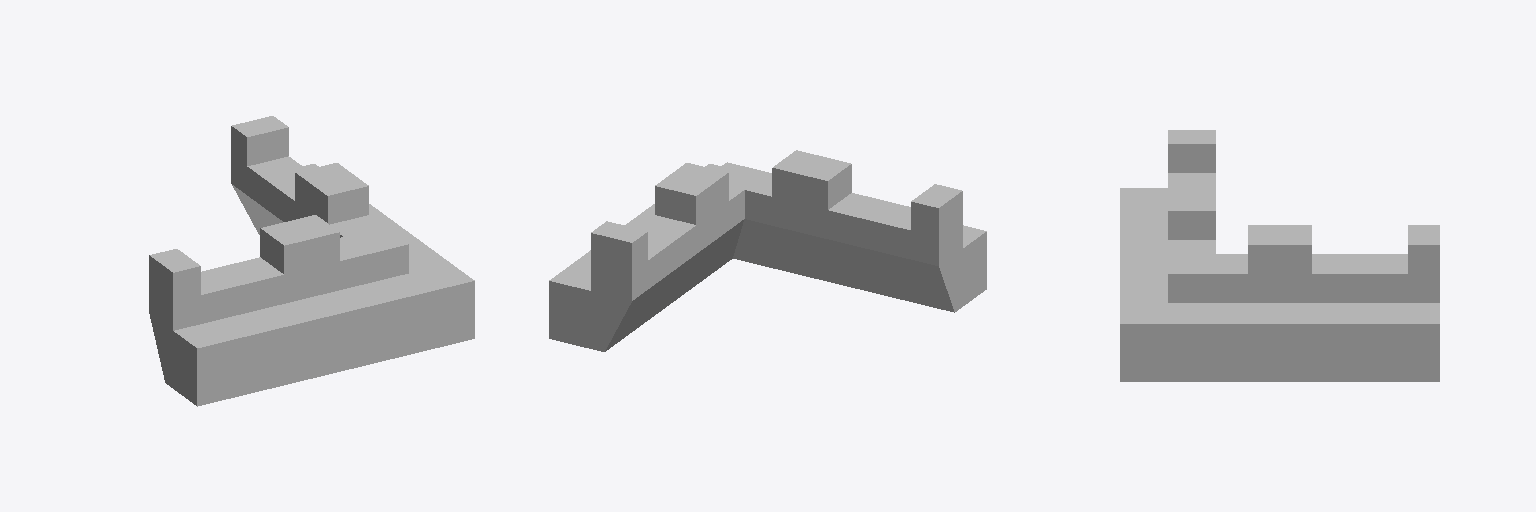
Rendered from battlement-corner-inner.obj.
3 renders of one model, left to right at view 1: azimuth 30°, elevation 25°; view 2: azimuth 150°, elevation 25°; view 3: azimuth 270°, elevation 25°, orthographic.
Visible parts, largest first — view 1: battlement-corner-inner; view 2: battlement-corner-inner; view 3: battlement-corner-inner.
Part boxes in pixels (bbox=[...]): battlement-corner-inner: bbox=[149, 116, 474, 406]; battlement-corner-inner: bbox=[549, 150, 986, 351]; battlement-corner-inner: bbox=[1120, 130, 1439, 381].
Size of the model in its own units: 1 by 0.4 by 1.